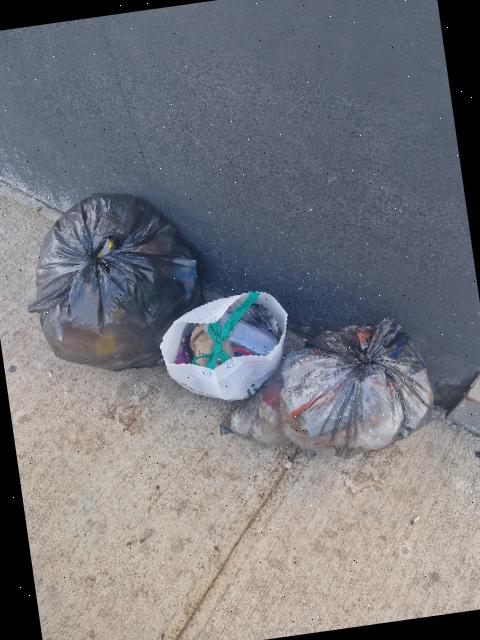Mixed -Black-: (29, 193, 205, 370)
Other: (160, 292, 288, 400)
Recyclable -Grey-: (228, 318, 433, 458)
